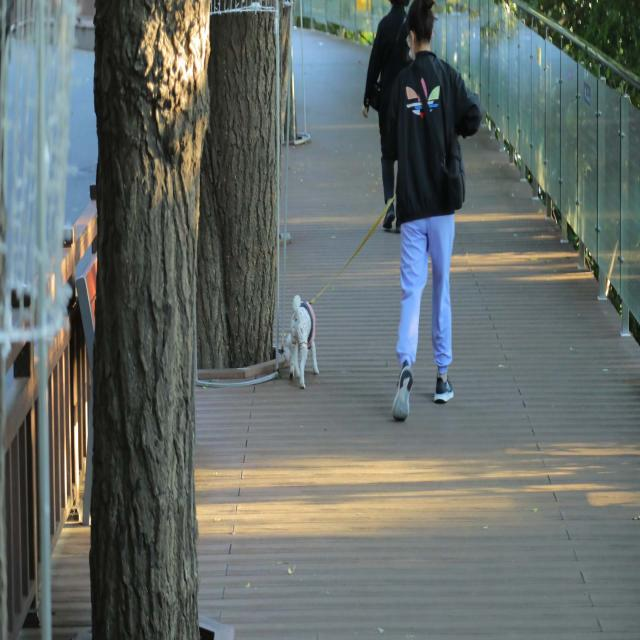Leashed_Dog: (286, 170, 429, 392)
